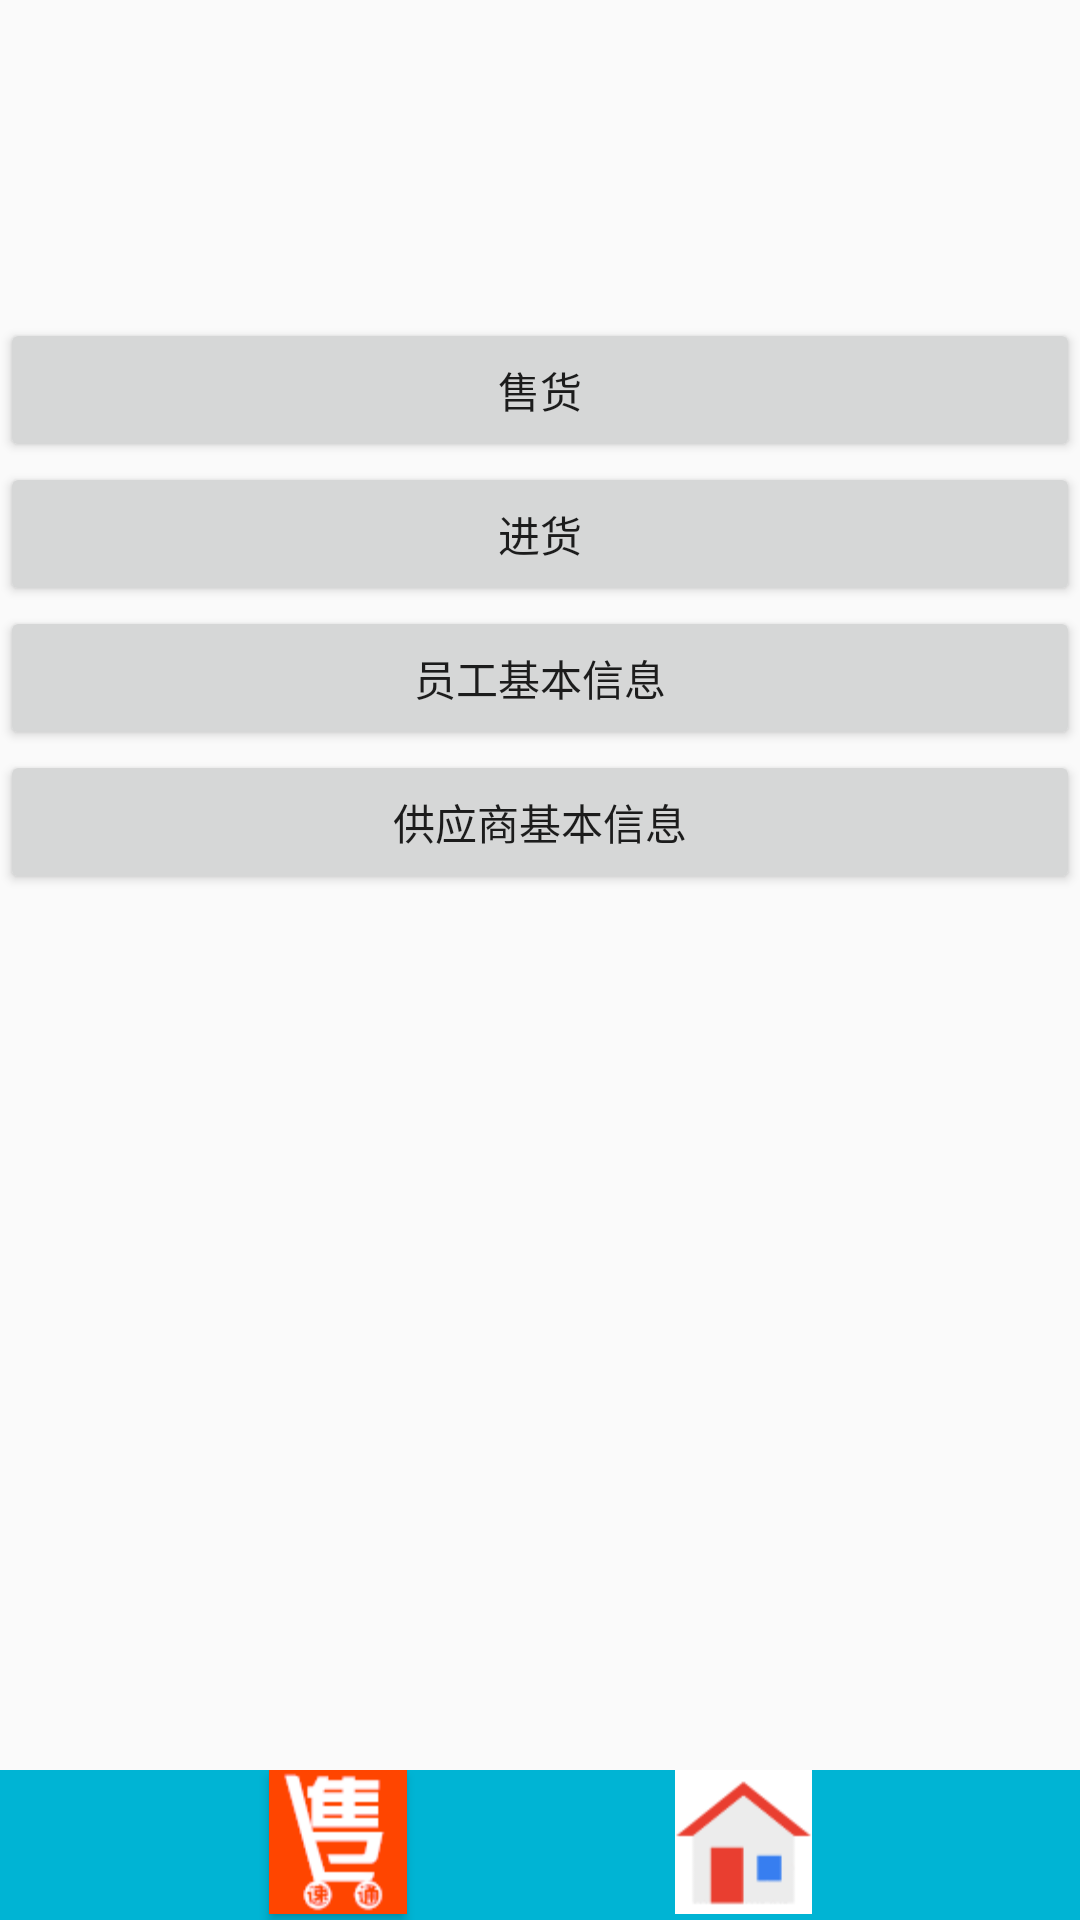

Screen size 1080x1920. Icon name, then its center in pixels as (x,y):
home: (743,1843)
